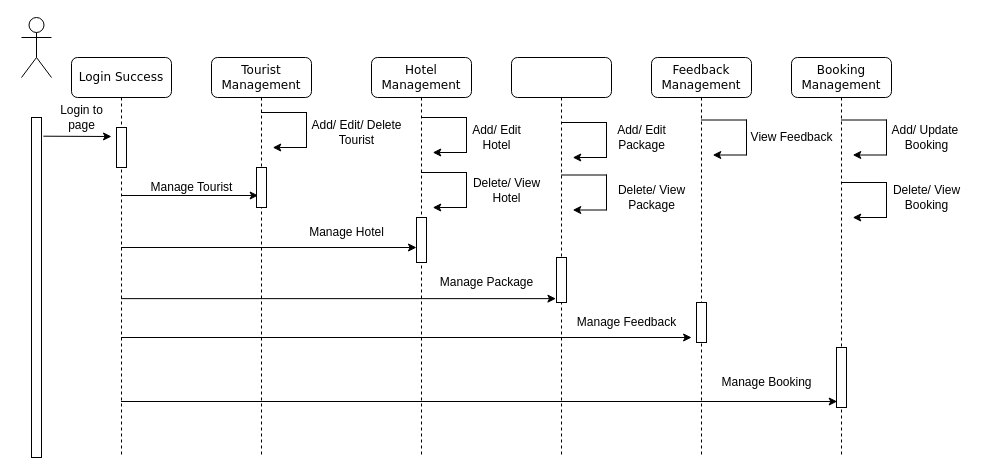
Image size: 989x475. Some labels were removed from this diagram. The centre of each missing label's shape, as x and y in pixels:
"ADMIN" goes at pixel 36 47.
"Package Management" goes at pixel 561 257.
